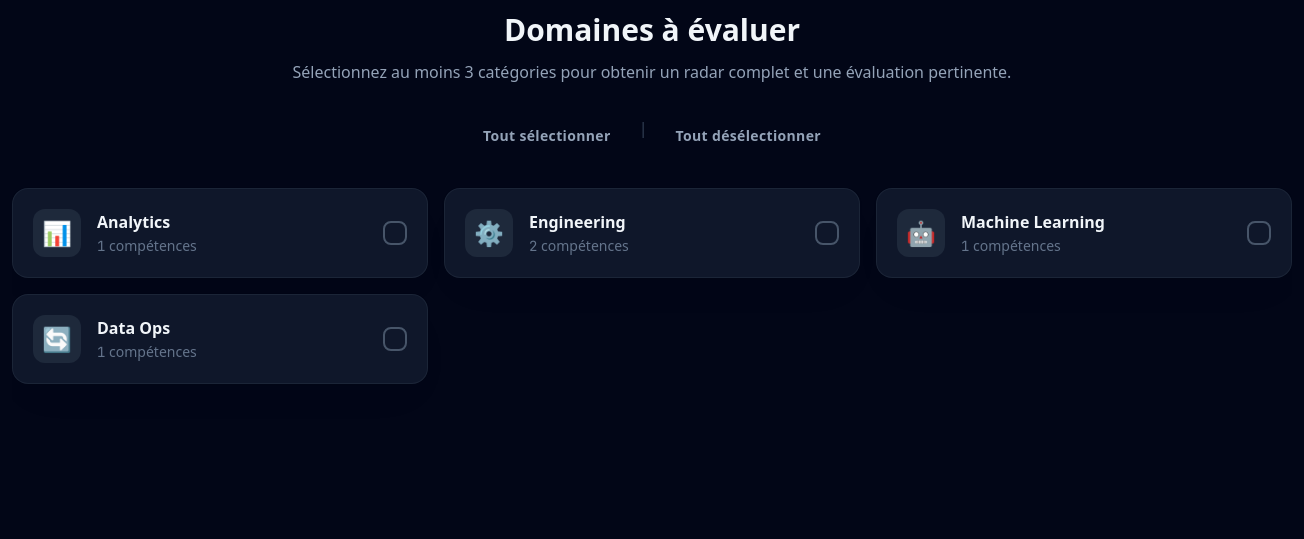
Test case: CategoryPicker › selecting 3 categories shows the confirm button
Click the button "Tout sélectionner".
click(547, 136)  # box [463,116,631,156]
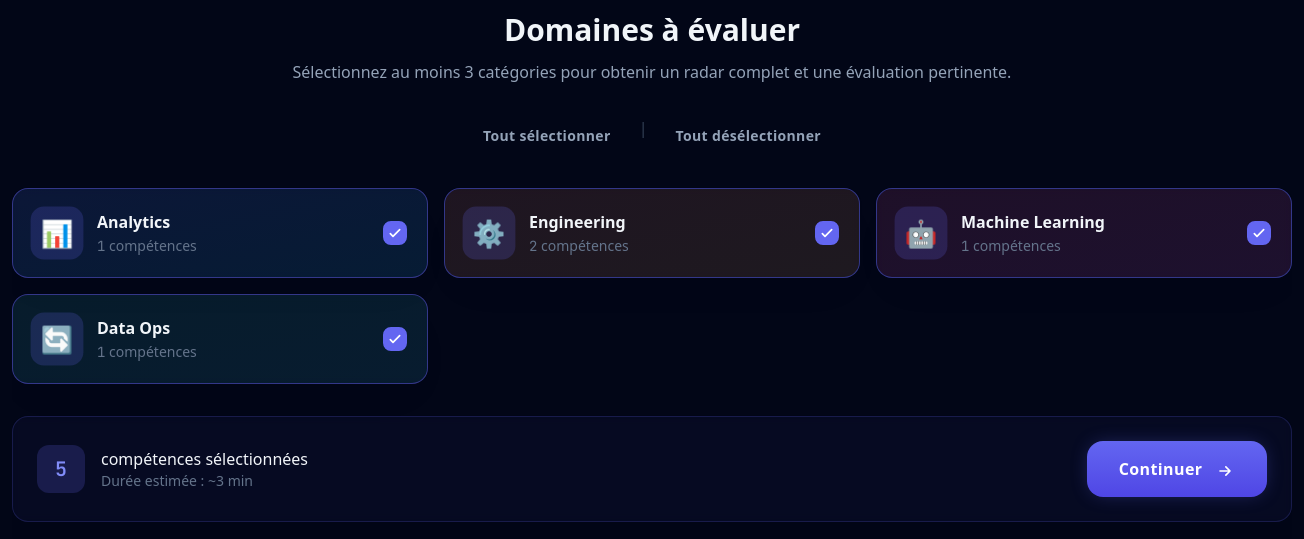
Now the text "Continuer" is shown, box [1087,441,1267,497]
